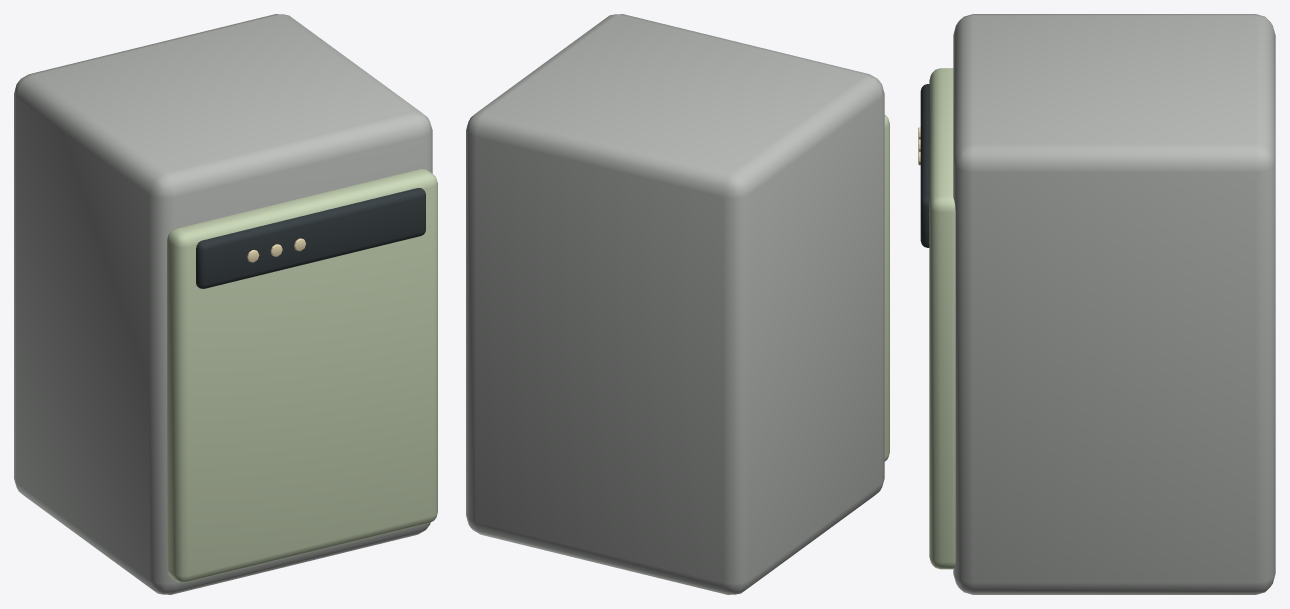
Rendered from dishwasher.glb.
The picture shows the model from 3 angles, left to right: view 1: azimuth 30°, elevation 25°; view 2: azimuth 150°, elevation 25°; view 3: azimuth 270°, elevation 25°; orthographic projection. The views are drawn at different scales.
Parts seen in each view (by area): view 1: dishwasher; view 2: dishwasher; view 3: dishwasher.
Part boxes in pixels (bbox=[...]): dishwasher: bbox=[14, 14, 437, 594]; dishwasher: bbox=[466, 14, 889, 594]; dishwasher: bbox=[918, 14, 1275, 594].
Size of the model in its own units: 0.6 by 0.86 by 0.62.
4 materials, 1 textured.
